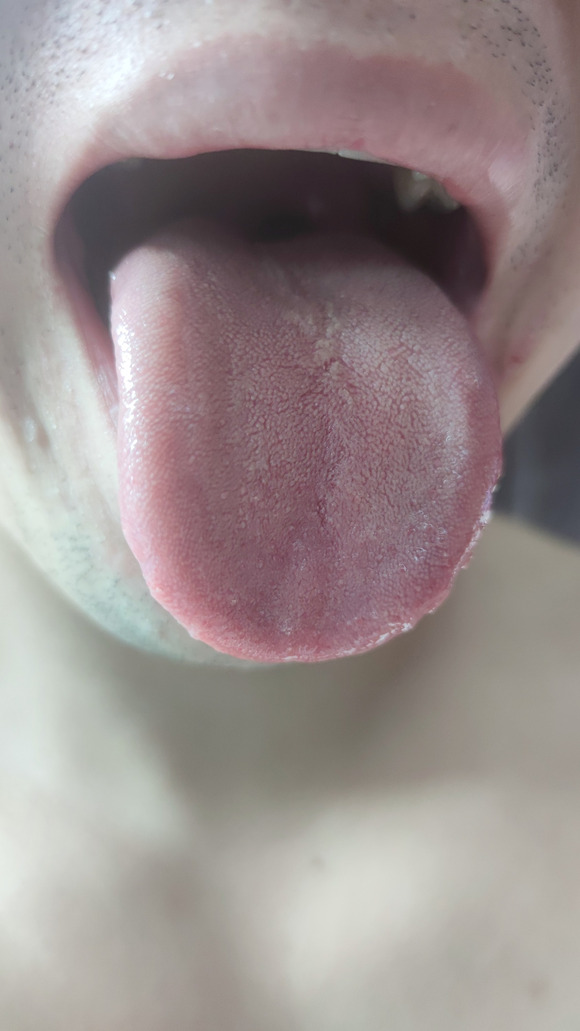baitaishe: (110, 217, 503, 661)
